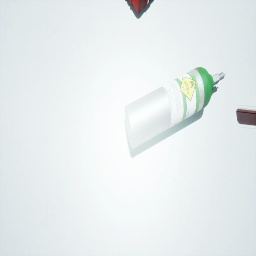0: (124, 67, 226, 149)
FirstAidBox ,: (129, 0, 151, 13)
